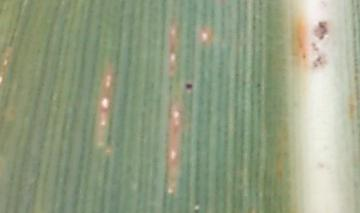tarspot: (316, 20, 328, 40), (311, 54, 325, 69), (309, 40, 319, 52), (184, 82, 193, 91), (255, 82, 260, 89)
